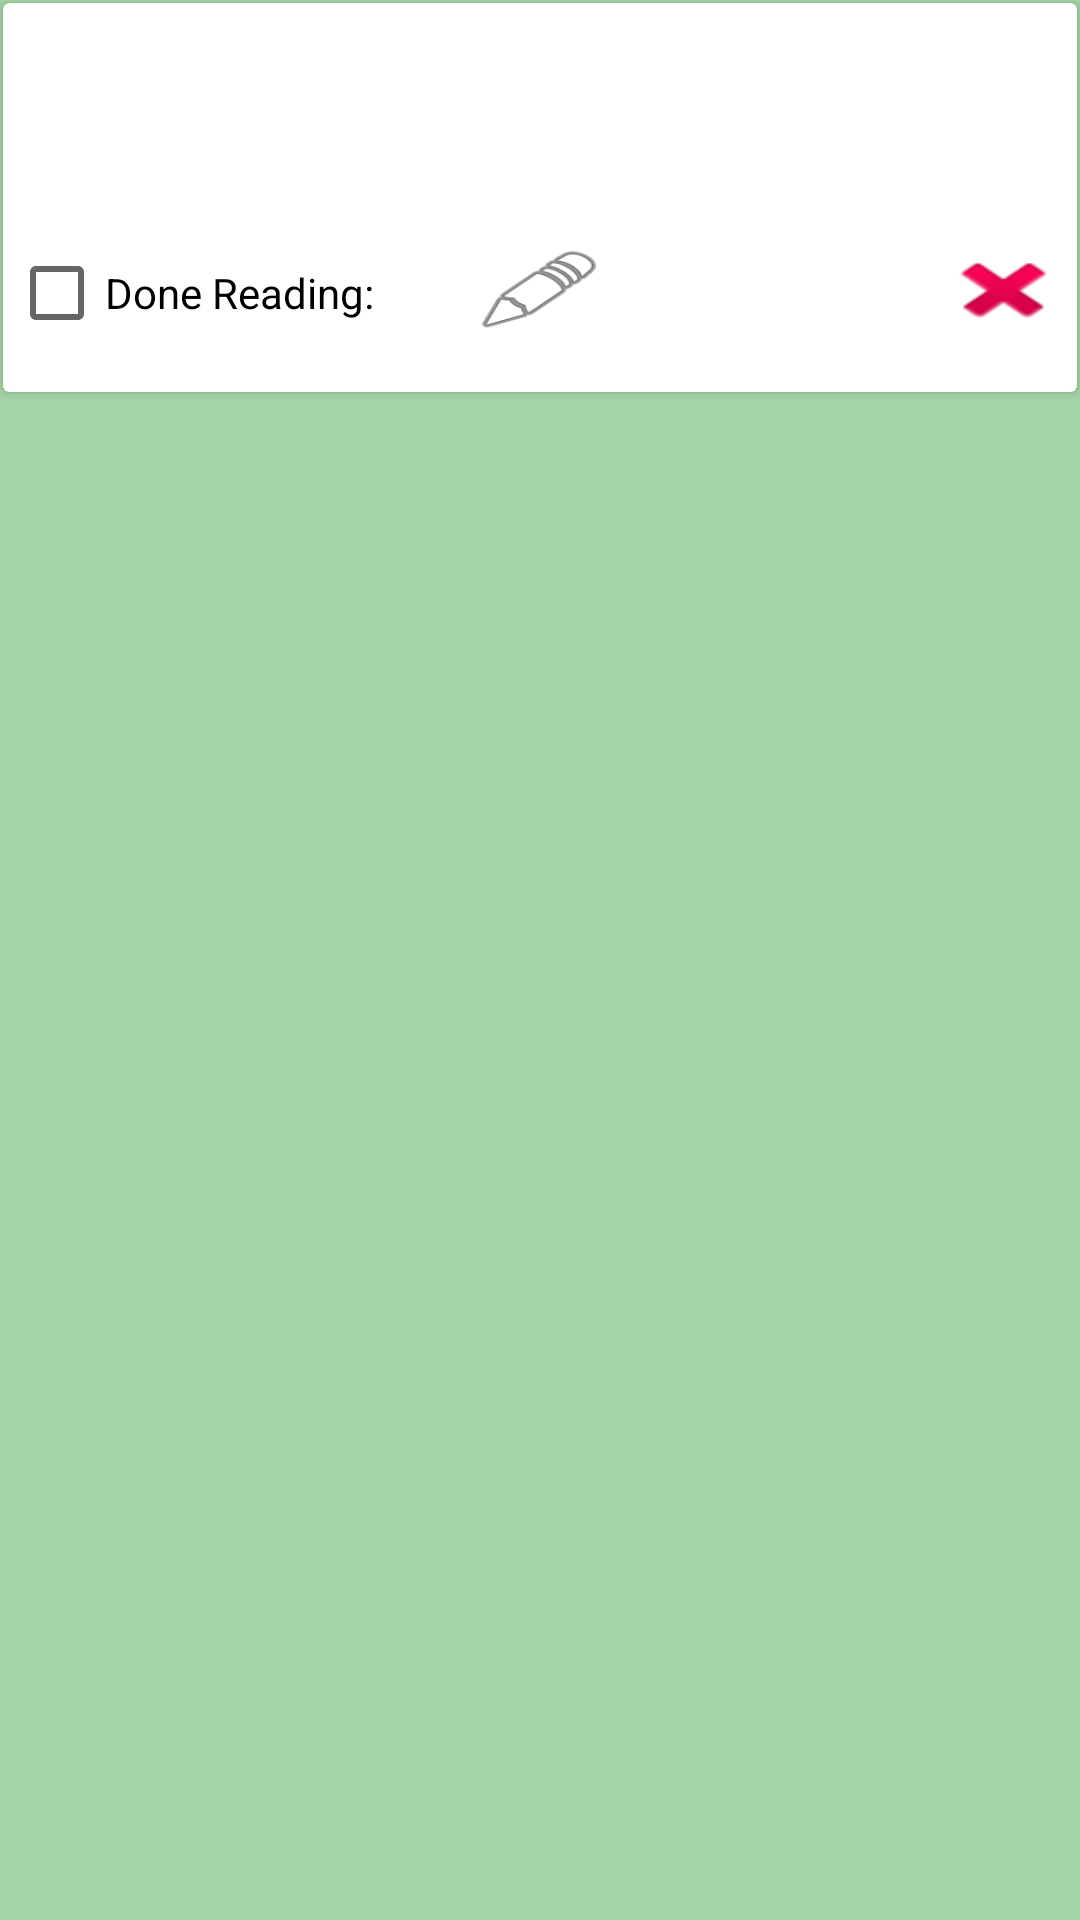

Screen size 1080w x 1920h. Icon name, then its box in pixels as (x1, y1, x2, y2):
delete: (961, 263, 1046, 318)
edit: (482, 251, 596, 328)
